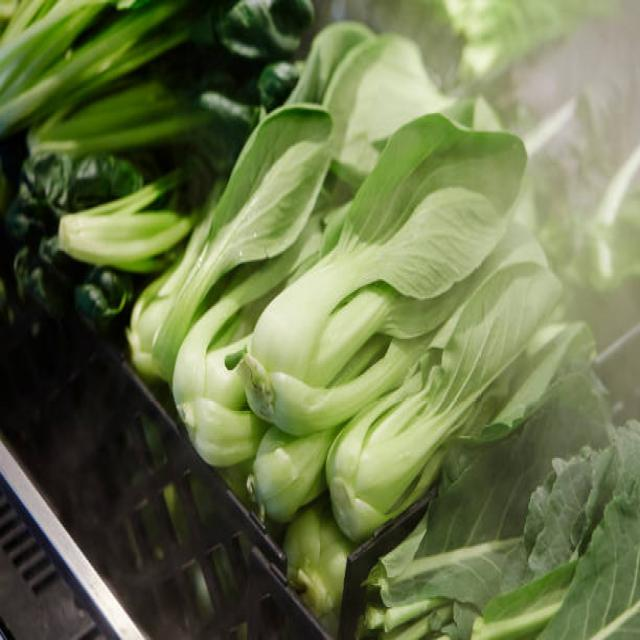Bok Choy: (262, 212, 546, 389), (338, 400, 518, 502)
